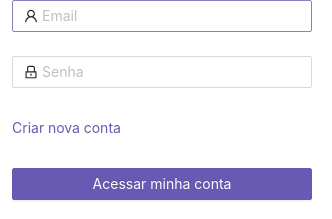
it: SignInForm › show error message when invalid email filled in the form
Type "invalidemail.com" into the field with test id "signin-email-input" at x=169, y=16, box 42,5 -> 296,27
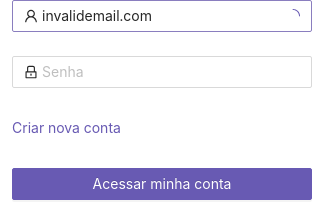
Submit the form from the button with test id "signin-submit-button", box 12,168 -> 312,200
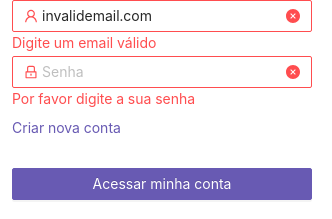
Result: the text "Digite um email válido" is shown at 12,34 -> 156,51
